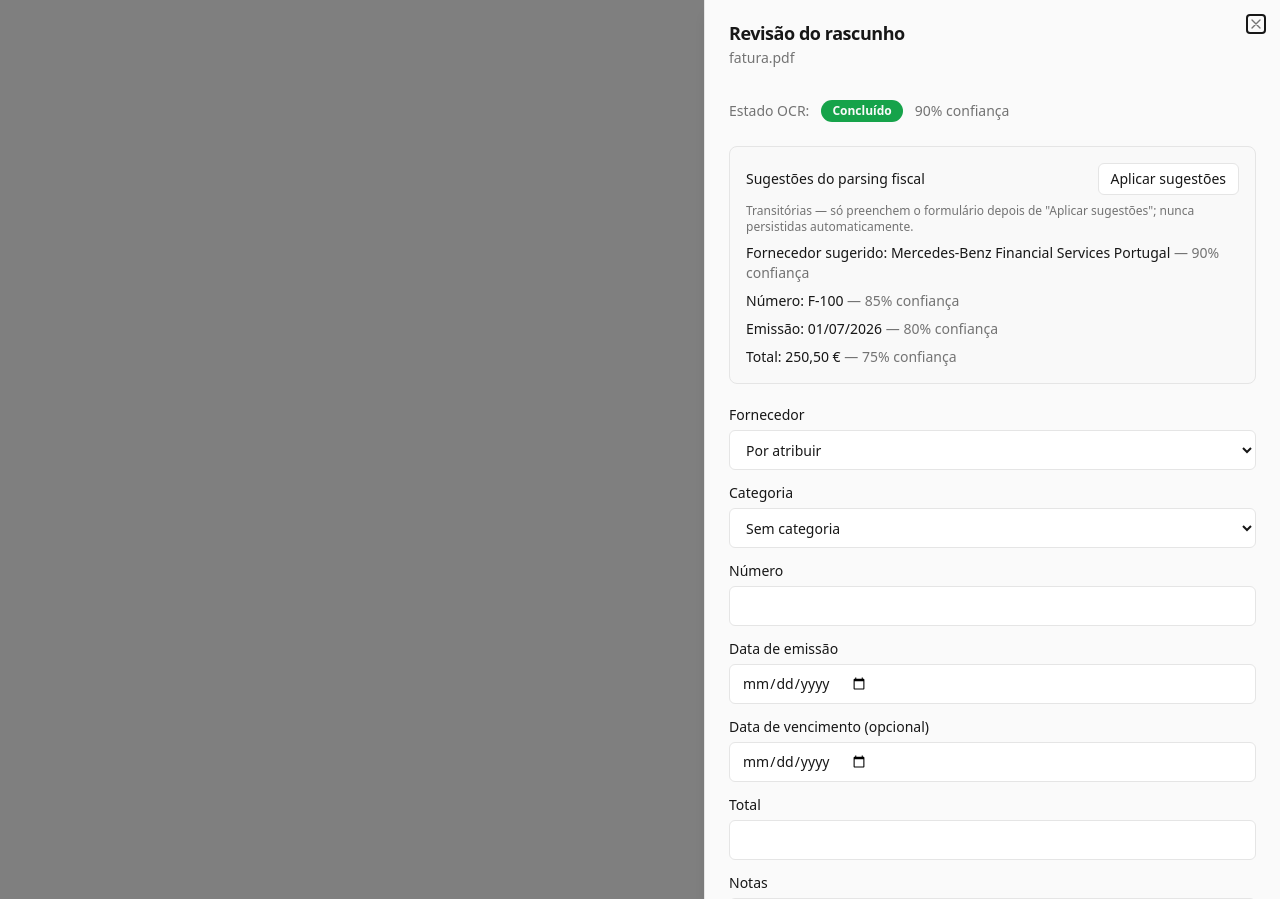
it: InvoiceDraftReviewSheet (Fase 6.8) › "Aplicar sugestões" resolve o fornecedor (correção Fase 6.8) › nunca falha silenciosamente e continua a preencher os restantes campos mesmo sem correspondência de fornecedor
Click the button "Aplicar sugestões" at (1168, 179), box [1098, 163, 1239, 195]
(page scrolled)
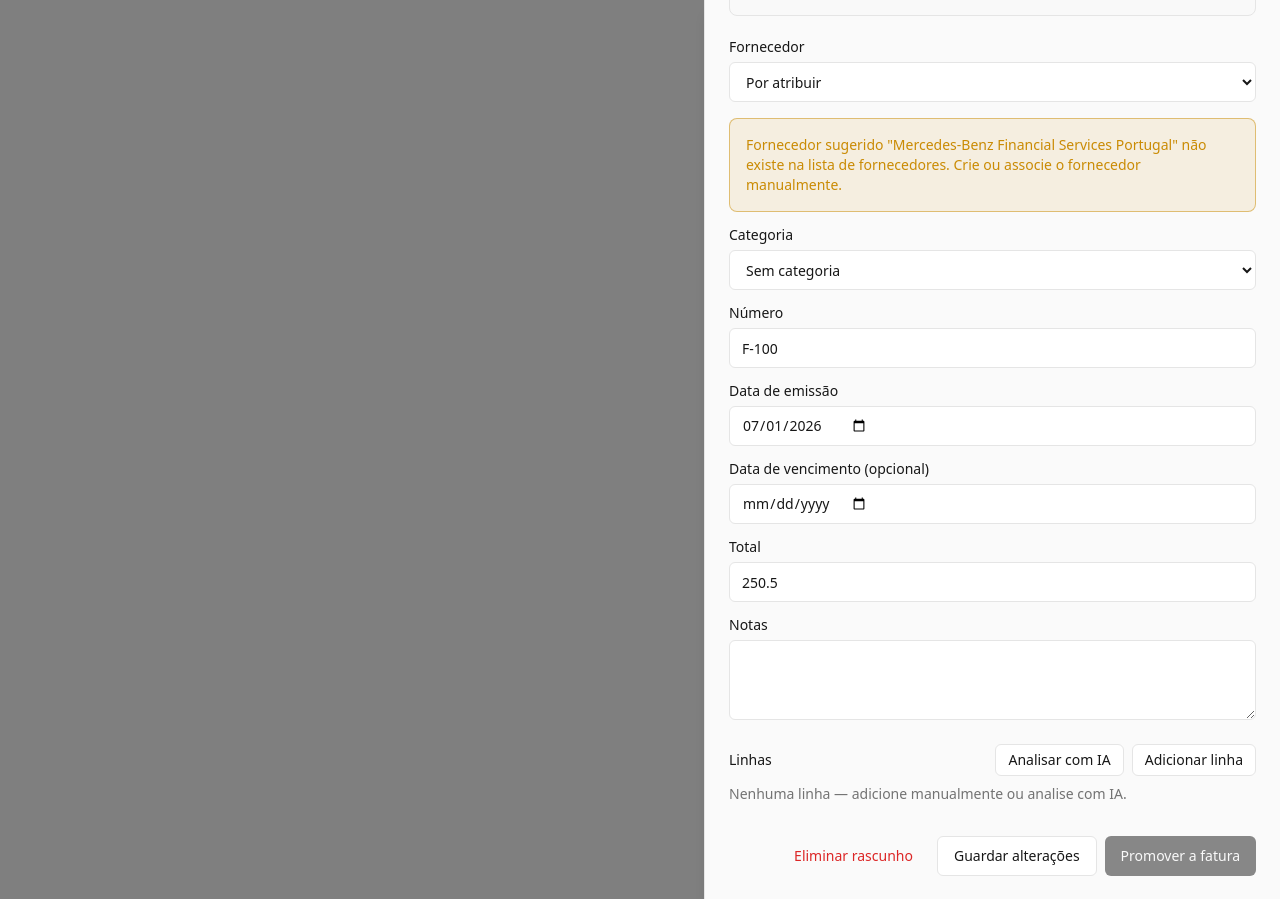
Result: the text "não existe na lista de fornecedores" is shown at [746, 135, 1206, 194]
Result: the field showing "F-100" is shown at [729, 328, 1256, 368]
Result: the number field showing "250.5" is shown at [729, 562, 1256, 602]
